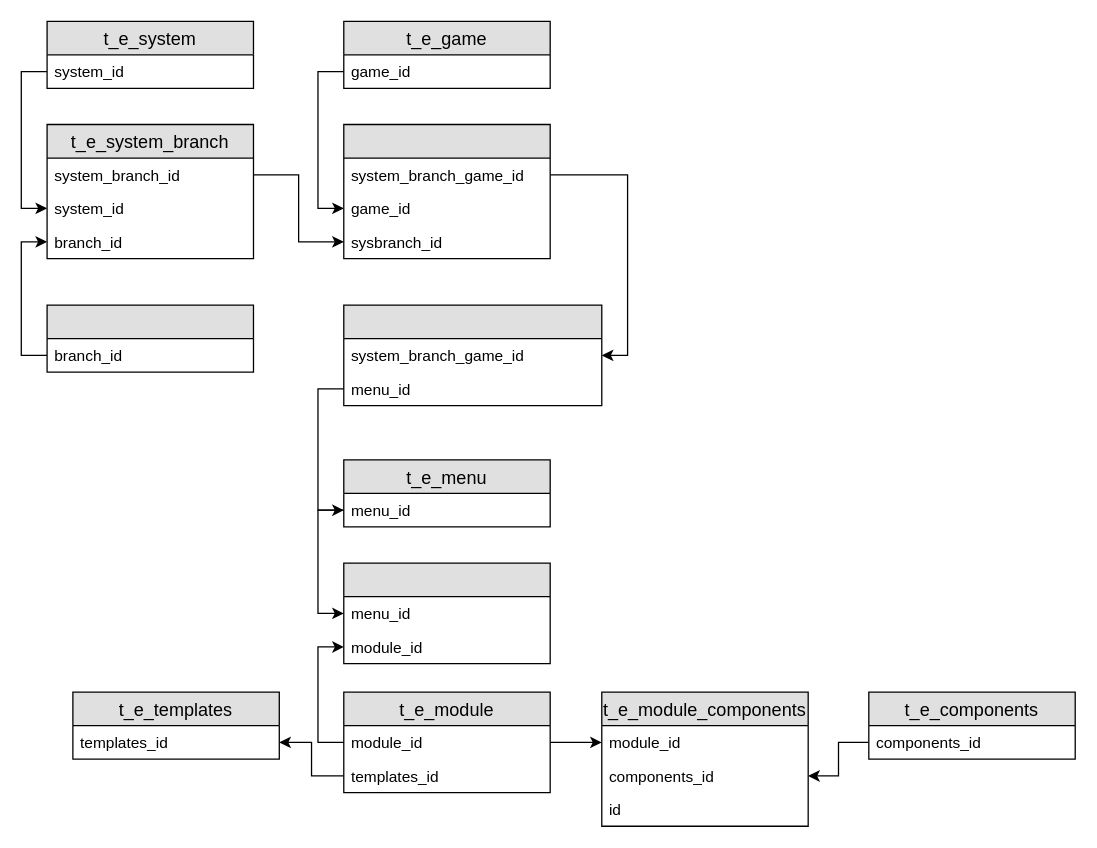
Image size: 1097x848. Some labels were removed from this diagram. Each missing label, with the box of its shape:
t_e_branch: (46, 304, 253, 372)
t_e_menu_module: (342, 562, 550, 664)
t_e_systembranch_game: (342, 123, 550, 259)
t_e_systembranch_gamemenu: (342, 304, 602, 406)
